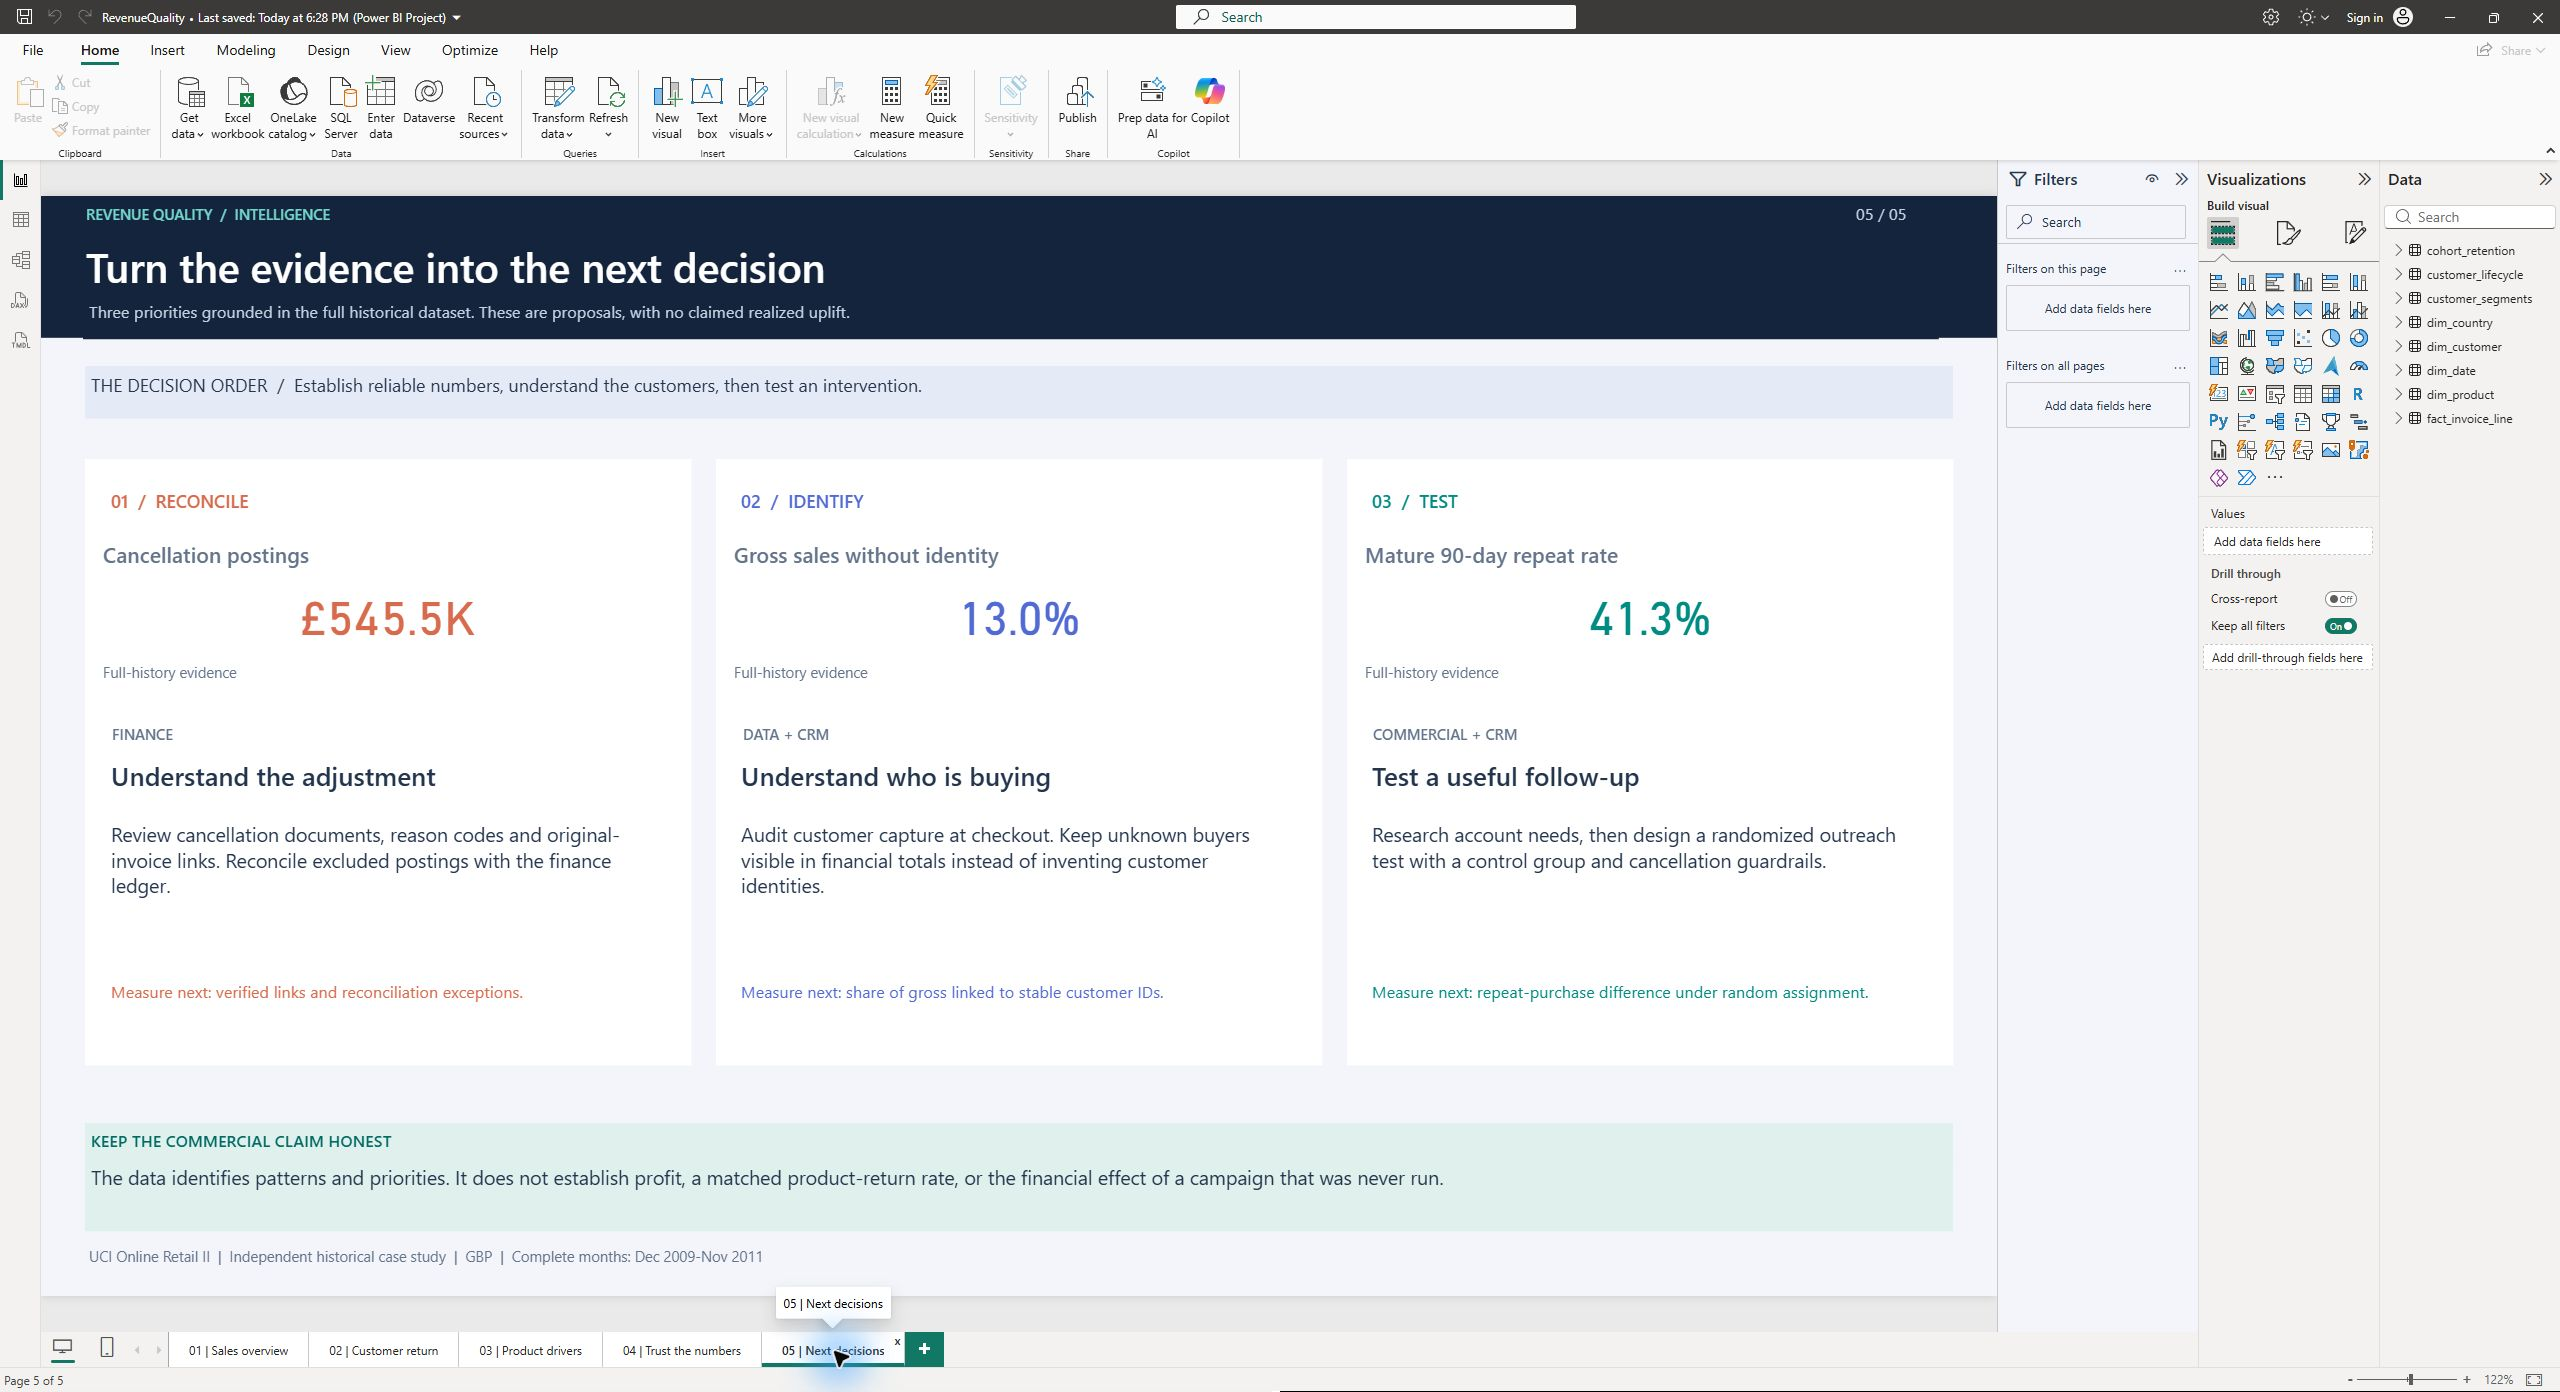

The page's visual inventory and layout, read from the dashboard file:
{"tool":"powerbi","page":{"name":"05 | Next decisions","canvas":[1600,900],"ordinal":4},"visuals":[{"type":"textbox","box":[0,0,1600,116],"z":86},{"type":"textbox","box":[32,0,1000,35.5],"z":87},{"type":"textbox","box":[32,30,1515,61],"z":88},{"type":"textbox","box":[34,80,1518,37],"z":89},{"type":"textbox","box":[1480,0,92,37],"z":90},{"type":"textbox","box":[34,852,1530,36],"z":91},{"type":"textbox","box":[36,139,1528,43],"z":92},{"type":"textbox","box":[36,215,496,496],"z":93},{"type":"textbox","box":[52,234,464,38.5],"z":94},{"type":"card","title":"Cancellation postings","fields":{"Values":["fact_invoice_line.Cancellation Postings GBP"]},"box":[46,281,476,98],"z":95},{"type":"textbox","box":[46,375,476,43],"z":96},{"type":"textbox","box":[53,425,460,35.5],"z":97},{"type":"textbox","box":[52,455,464,46],"z":98},{"type":"textbox","box":[52,506,464,116],"z":99},{"type":"textbox","box":[52,636,464,62],"z":100},{"type":"textbox","box":[552,215,496,496],"z":101},{"type":"textbox","box":[568,234,464,38.5],"z":102},{"type":"card","title":"Gross sales without identity","fields":{"Values":["fact_invoice_line.Anonymous Gross Share"]},"box":[562,281,476,98],"z":103},{"type":"textbox","box":[562,375,476,43],"z":104},{"type":"textbox","box":[569,425,460,35.5],"z":105},{"type":"textbox","box":[568,455,464,46],"z":106},{"type":"textbox","box":[568,506,464,116],"z":107},{"type":"textbox","box":[568,636,464,62],"z":108},{"type":"textbox","box":[1068,215,496,496],"z":109},{"type":"textbox","box":[1084,234,464,38.5],"z":110},{"type":"card","title":"Mature 90-day repeat rate","fields":{"Values":["fact_invoice_line.Repeat 90d Rate"]},"box":[1078,281,476,98],"z":111},{"type":"textbox","box":[1078,375,476,43],"z":112},{"type":"textbox","box":[1085,425,460,35.5],"z":113},{"type":"textbox","box":[1084,455,464,46],"z":114},{"type":"textbox","box":[1084,506,464,116],"z":115},{"type":"textbox","box":[1084,636,464,62],"z":116},{"type":"textbox","box":[36,758,1528,37],"z":117},{"type":"textbox","box":[36,787,1528,60],"z":118}]}

Visuals, with their boxes on the page's 1600x900 design canvas (x1, y1, x2, y2). These are canvas units, not pixel positions in the 2560x1392 screenshot, which may show the page scaled, cropped or inside an application window:
textbox: (left=0, top=0, right=1600, bottom=116)
textbox: (left=32, top=0, right=1032, bottom=36)
textbox: (left=32, top=30, right=1547, bottom=91)
textbox: (left=34, top=80, right=1552, bottom=117)
textbox: (left=1480, top=0, right=1572, bottom=37)
textbox: (left=34, top=852, right=1564, bottom=888)
textbox: (left=36, top=139, right=1564, bottom=182)
textbox: (left=36, top=215, right=532, bottom=711)
textbox: (left=52, top=234, right=516, bottom=272)
"Cancellation postings" card: (left=46, top=281, right=522, bottom=379)
textbox: (left=46, top=375, right=522, bottom=418)
textbox: (left=53, top=425, right=513, bottom=460)
textbox: (left=52, top=455, right=516, bottom=501)
textbox: (left=52, top=506, right=516, bottom=622)
textbox: (left=52, top=636, right=516, bottom=698)
textbox: (left=552, top=215, right=1048, bottom=711)
textbox: (left=568, top=234, right=1032, bottom=272)
"Gross sales without identity" card: (left=562, top=281, right=1038, bottom=379)
textbox: (left=562, top=375, right=1038, bottom=418)
textbox: (left=569, top=425, right=1029, bottom=460)
textbox: (left=568, top=455, right=1032, bottom=501)
textbox: (left=568, top=506, right=1032, bottom=622)
textbox: (left=568, top=636, right=1032, bottom=698)
textbox: (left=1068, top=215, right=1564, bottom=711)
textbox: (left=1084, top=234, right=1548, bottom=272)
"Mature 90-day repeat rate" card: (left=1078, top=281, right=1554, bottom=379)
textbox: (left=1078, top=375, right=1554, bottom=418)
textbox: (left=1085, top=425, right=1545, bottom=460)
textbox: (left=1084, top=455, right=1548, bottom=501)
textbox: (left=1084, top=506, right=1548, bottom=622)
textbox: (left=1084, top=636, right=1548, bottom=698)
textbox: (left=36, top=758, right=1564, bottom=795)
textbox: (left=36, top=787, right=1564, bottom=847)
